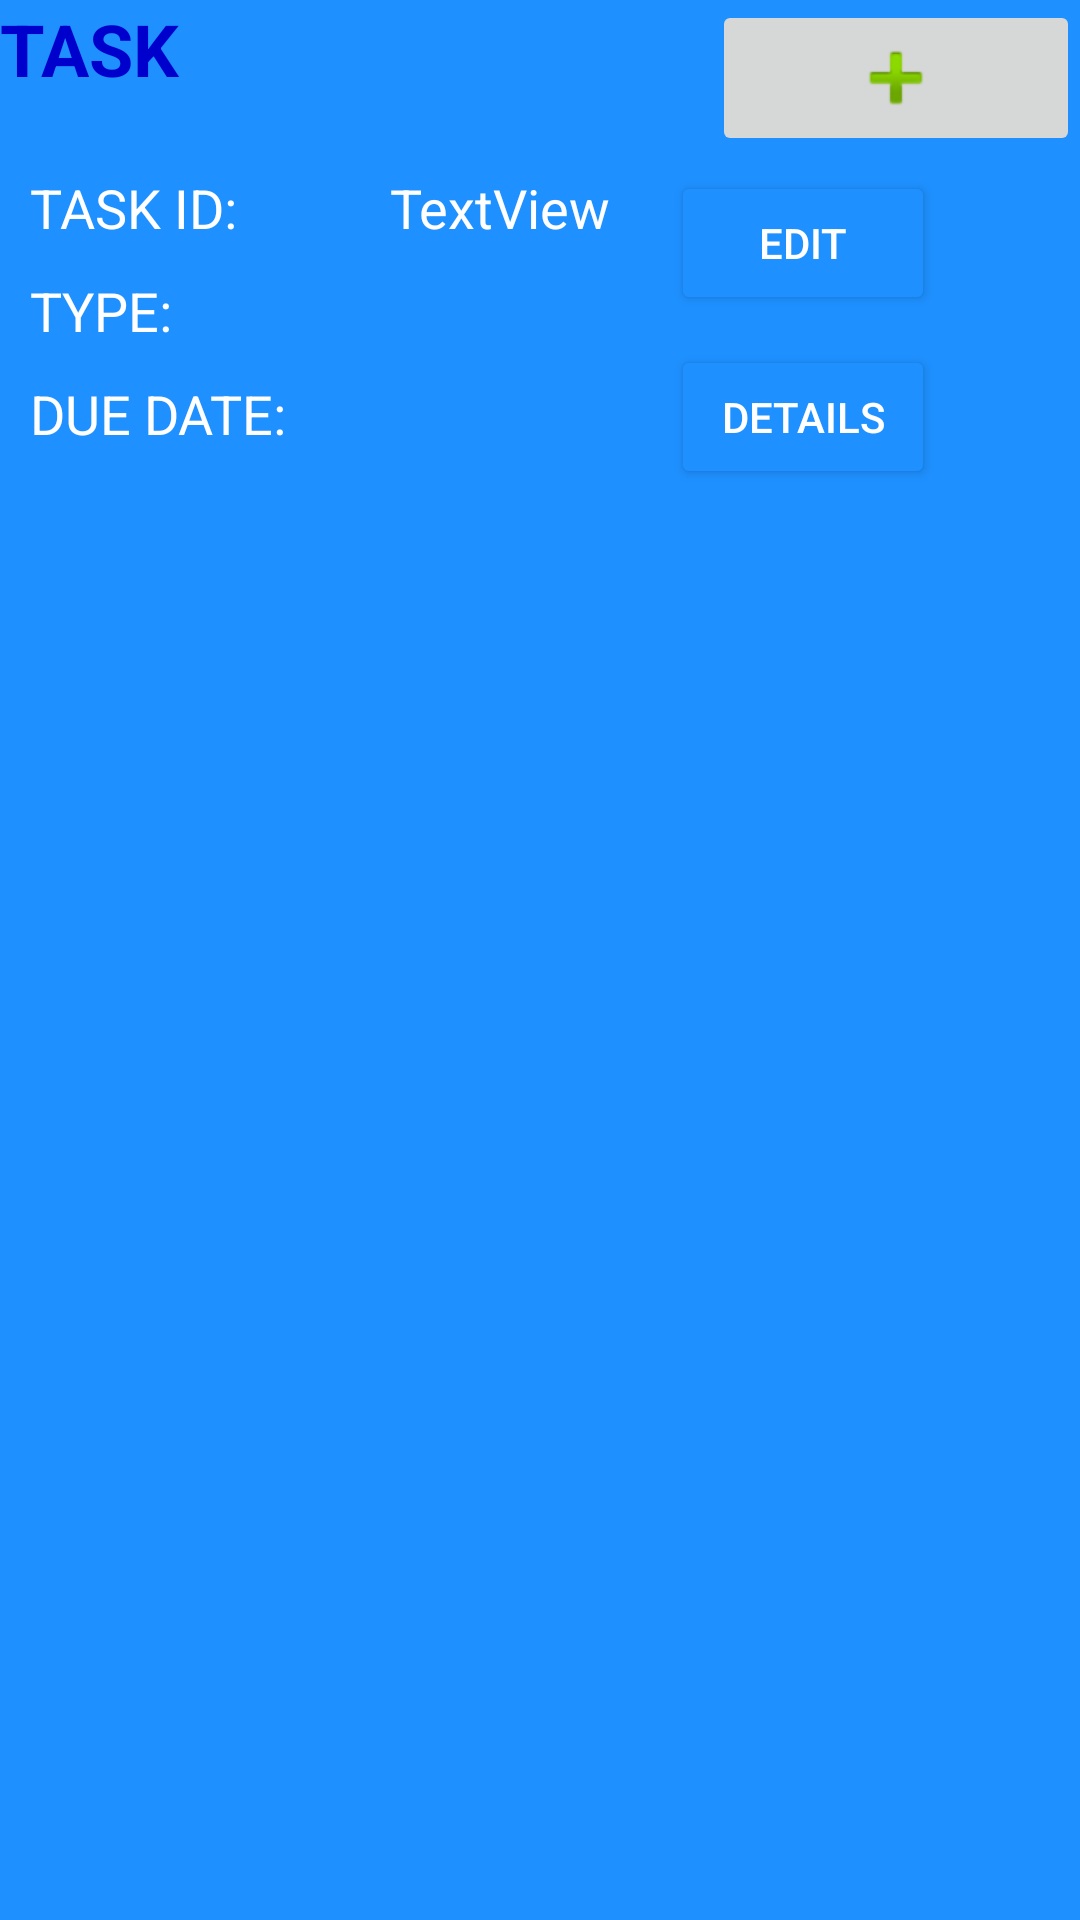

Where to tap for icons on this 1080 x 1920 app screen, as (x,y):
add: (896,78)
